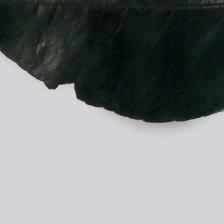healthy: (3, 5, 224, 108)
